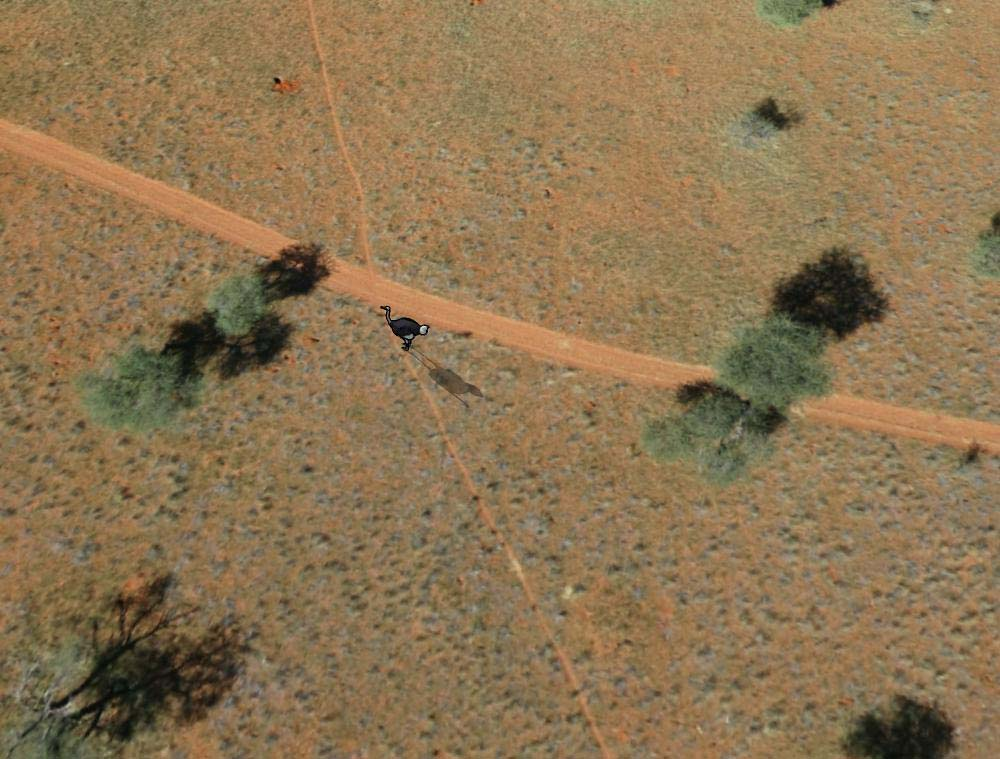ostrich: (379, 304, 433, 355)
